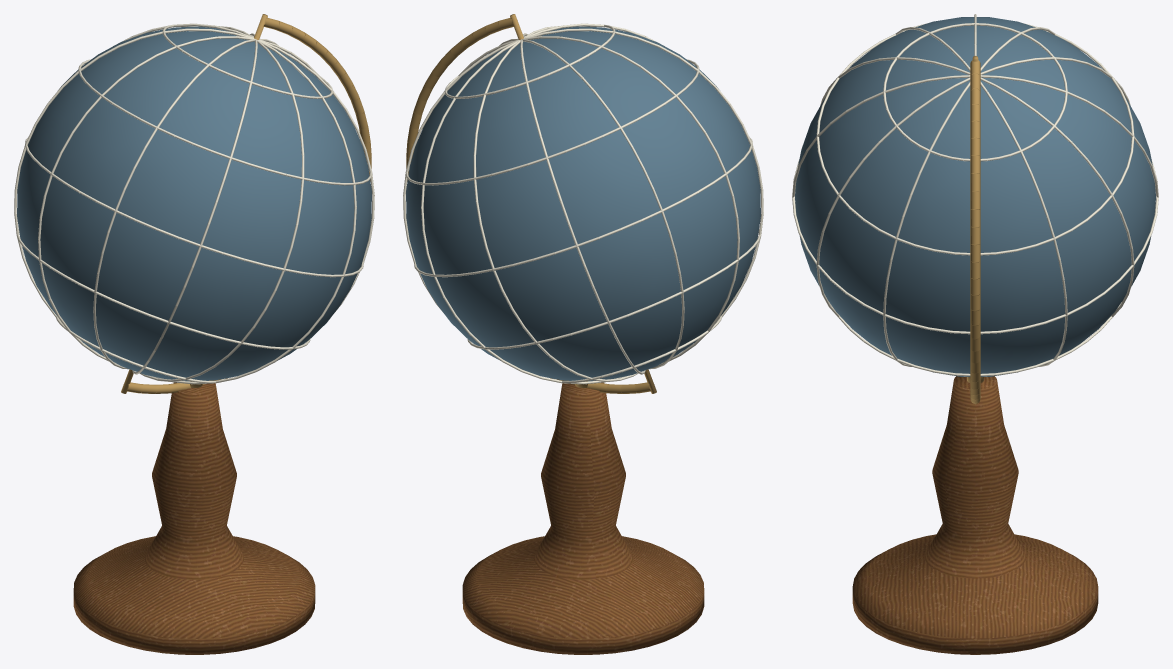
Rendered from globe_on_stand.glb.
3 renders of one model, left to right at view 1: azimuth 30°, elevation 25°; view 2: azimuth 150°, elevation 25°; view 3: azimuth 270°, elevation 25°, orthographic.
Visible parts, largest first — view 1: globe_on_stand; view 2: globe_on_stand; view 3: globe_on_stand.
Boxes of the visible parts, left/top/right/bottom form: globe_on_stand: left=14, top=14, right=374, bottom=654; globe_on_stand: left=403, top=14, right=763, bottom=654; globe_on_stand: left=792, top=14, right=1158, bottom=654.
Size of the model in its own units: 0.5407 by 0.8877 by 0.5075.
4 materials, 1 textured.
